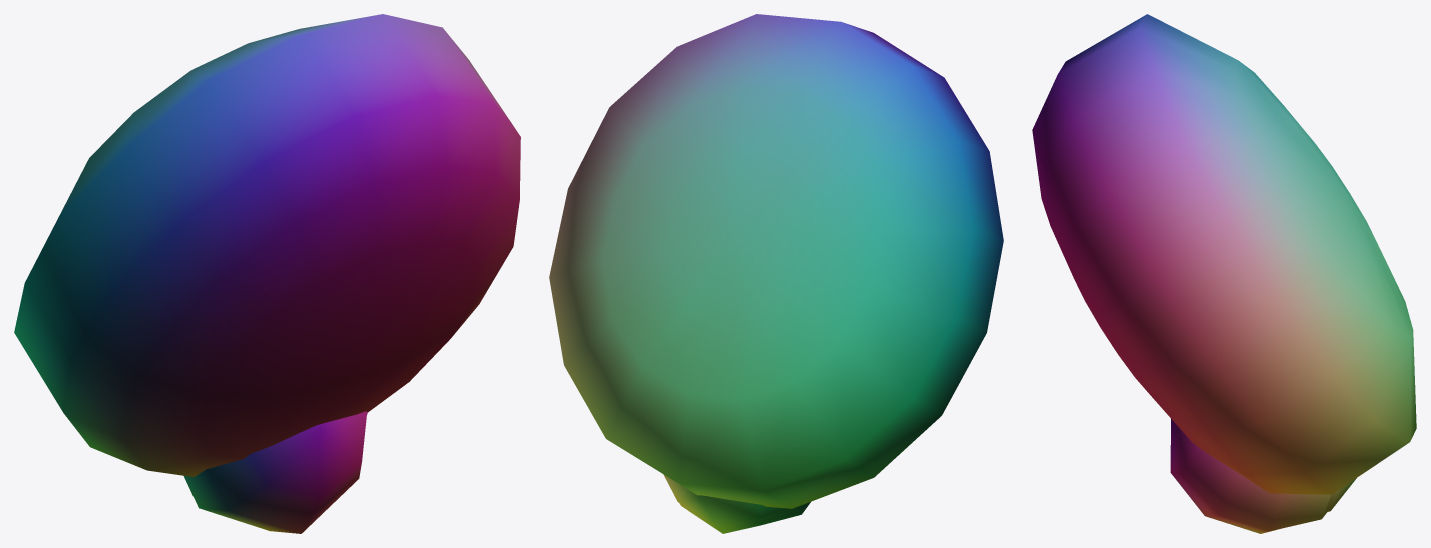
Rendered from SM_Mon_Goblin_Att_Pendant.fbx.
The picture shows the model from 3 angles, left to right: view 1: azimuth 30°, elevation 25°; view 2: azimuth 150°, elevation 25°; view 3: azimuth 270°, elevation 25°; orthographic projection. The views are drawn at different scales.
Visible parts, largest first — view 1: SM_Mon_Goblin_Att_Pendant; view 2: SM_Mon_Goblin_Att_Pendant; view 3: SM_Mon_Goblin_Att_Pendant.
Part boxes in pixels (x1,y1,x2,y2): SM_Mon_Goblin_Att_Pendant: [14, 14, 520, 533]; SM_Mon_Goblin_Att_Pendant: [549, 14, 1003, 533]; SM_Mon_Goblin_Att_Pendant: [1032, 14, 1416, 533].
Bounding box in the file's own units: 0.1046 × 0.1212 × 0.0863.
